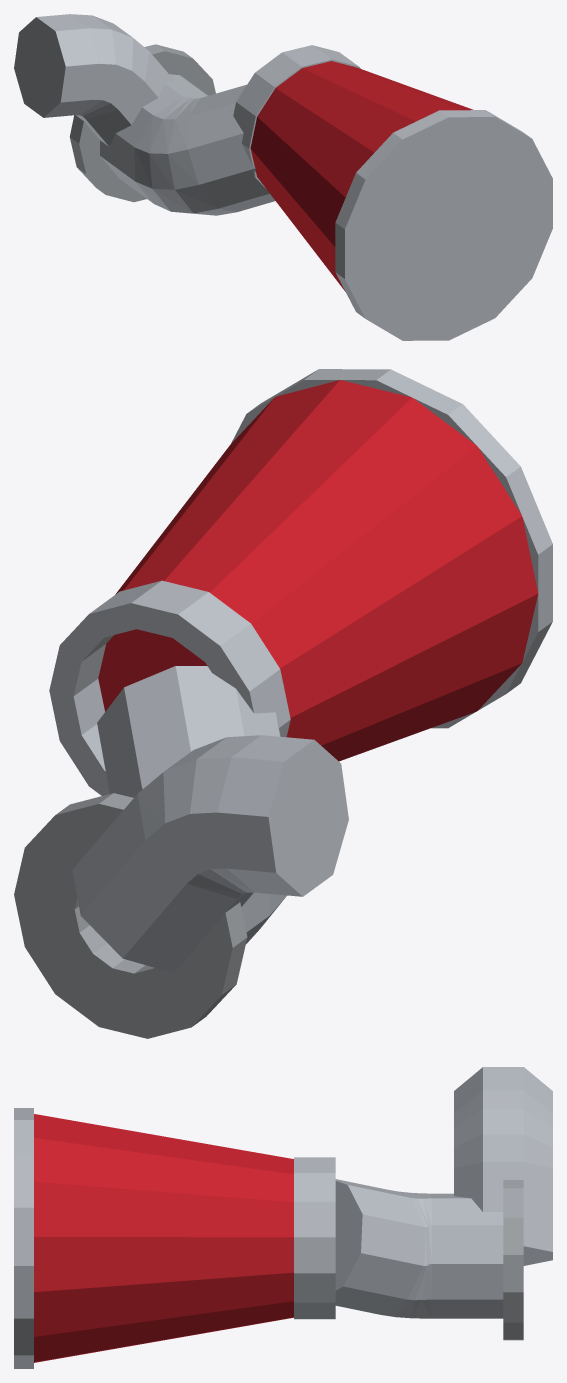
Rendered from hana_roadster.glb.
3 views of the same model, one above another, from view 1: azimuth 30°, elevation 25°; view 2: azimuth 150°, elevation 25°; view 3: azimuth 270°, elevation 25° (orthographic). The views are drawn at different scales.
Visible parts, largest first — view 1: model; view 2: model; view 3: model.
Boxes of the visible parts, x1,y1,x2,y2 form: model: [14, 14, 552, 340]; model: [14, 369, 552, 1038]; model: [14, 1067, 552, 1368].
Bounding box in the file's own units: 0.2104 × 0.1629 × 0.3216.
2 materials, 1 textured.
